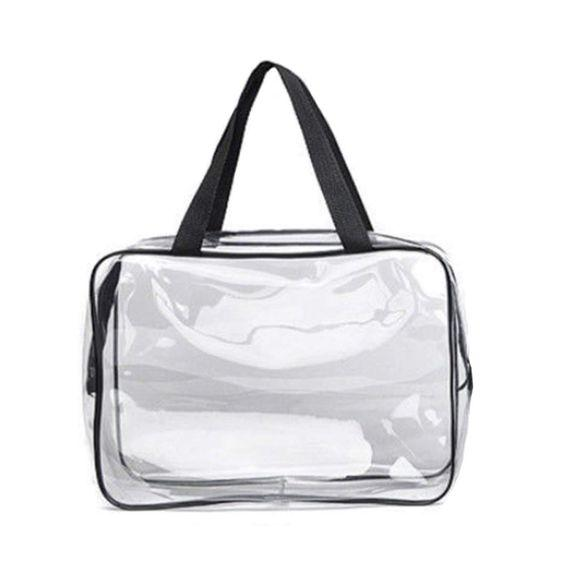PVC: (33, 7, 546, 564)
